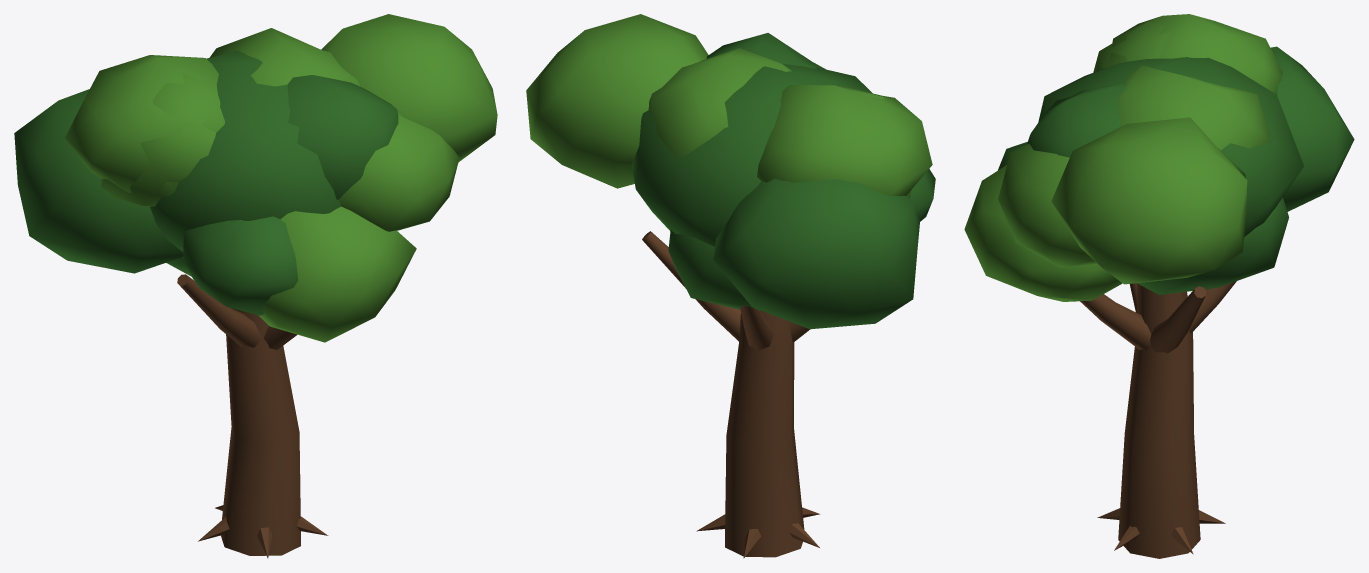
File: tree_oak.glb
3 views of the same model, side by side, from view 1: azimuth 30°, elevation 25°; view 2: azimuth 150°, elevation 25°; view 3: azimuth 270°, elevation 25° (orthographic).
Parts seen in each view (by area): view 1: tree_oak; view 2: tree_oak; view 3: tree_oak.
Boxes of the visible parts, bbox=[...] form: tree_oak: bbox=[14, 14, 497, 558]; tree_oak: bbox=[526, 14, 935, 558]; tree_oak: bbox=[964, 14, 1354, 558].
Bounding box in the file's own units: 4.36 × 4.95 × 3.6.
